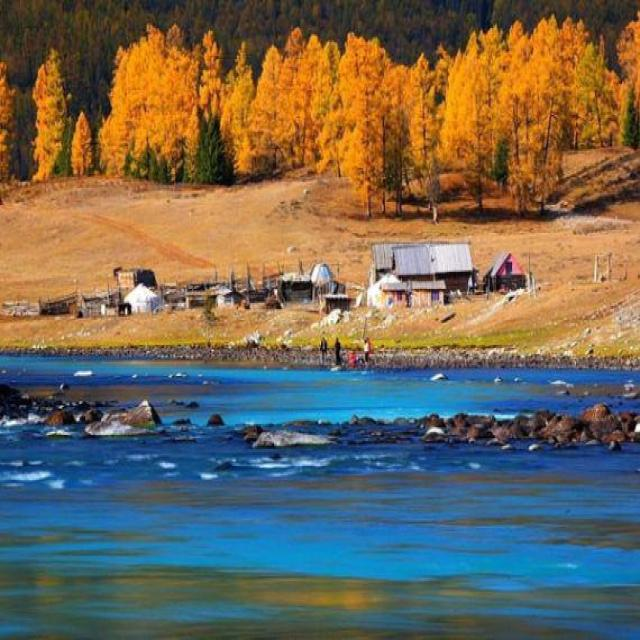other: (115, 25, 620, 193)
